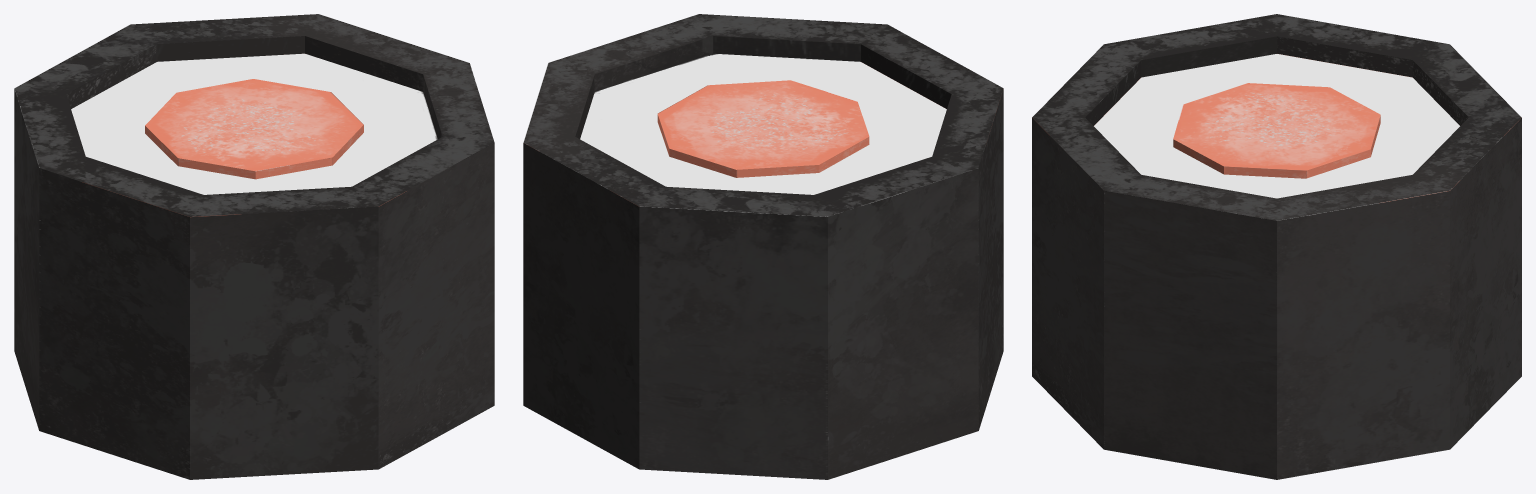
File: maki_salmon.fbx
3 views of the same model, side by side, from view 1: azimuth 30°, elevation 25°; view 2: azimuth 150°, elevation 25°; view 3: azimuth 270°, elevation 25° (orthographic).
Visible parts, largest first — view 1: maki.002; view 2: maki.002; view 3: maki.002.
Part boxes in pixels (x1,y1,x2,y2): maki.002: [14, 14, 494, 479]; maki.002: [523, 14, 1003, 479]; maki.002: [1032, 14, 1521, 479].
Bounding box in the file's own units: 64.71 × 37.78 × 64.71.
